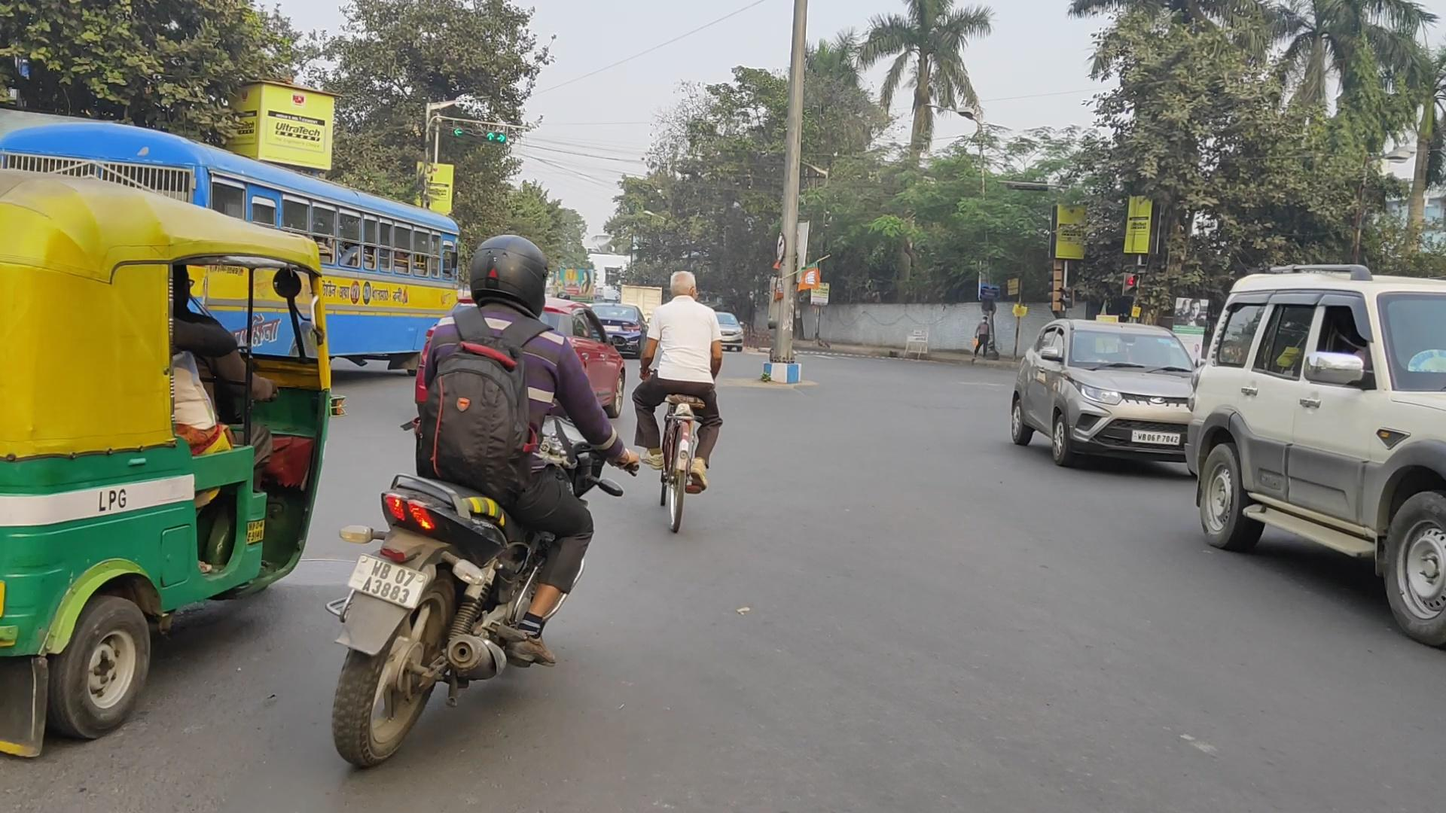Auto: (3, 169, 346, 759)
Bus: (2, 122, 462, 391)
bike: (327, 235, 641, 768), (633, 271, 726, 533)
car: (1187, 263, 1446, 651), (1014, 318, 1198, 476), (413, 291, 626, 420), (588, 302, 649, 360), (712, 309, 745, 354)
